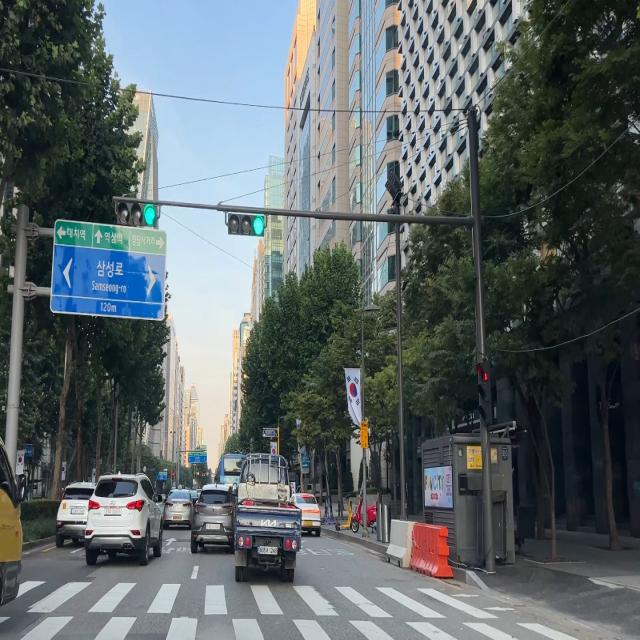Green Light: (143, 202, 156, 228), (252, 217, 264, 237)
